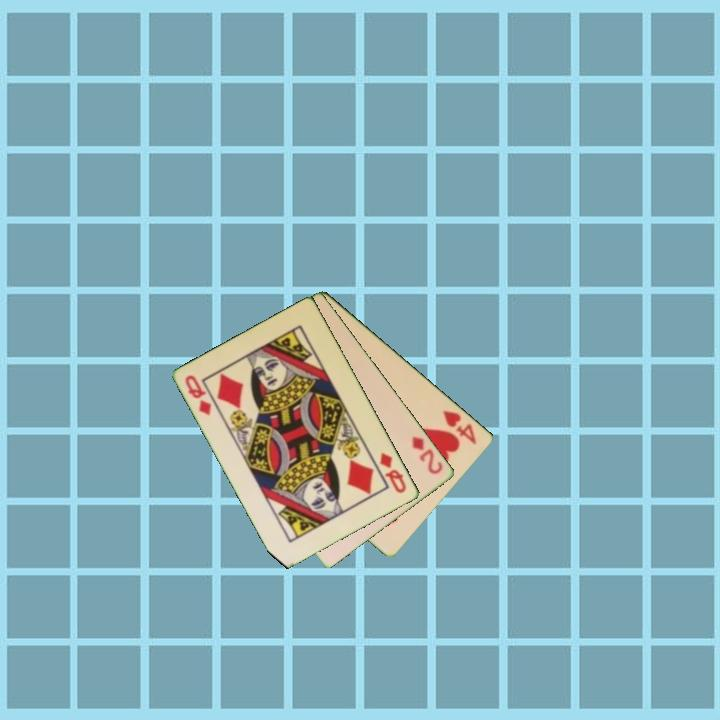2d: (409, 433, 446, 477)
4h: (439, 406, 480, 447)
Qd: (376, 449, 410, 496), (182, 371, 215, 419)
